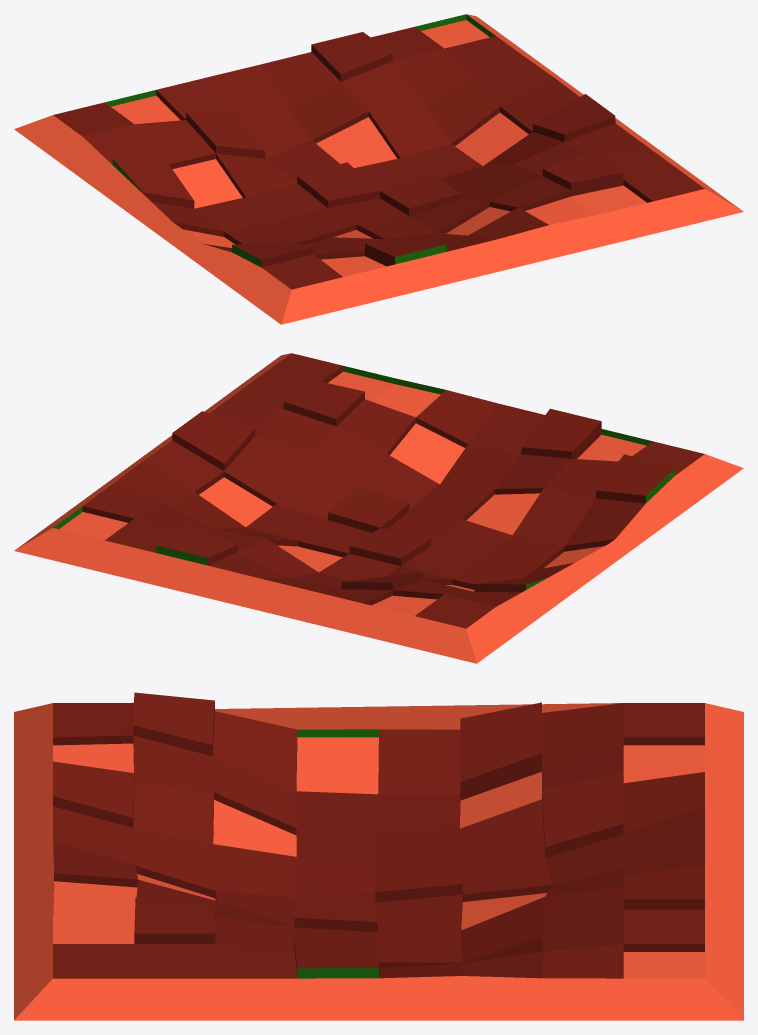
File: des.fbx
3 renders of one model, top to bottom at view 1: azimuth 30°, elevation 25°; view 2: azimuth 150°, elevation 25°; view 3: azimuth 270°, elevation 25°, orthographic. The views are drawn at different scales.
Parts seen in each view (by area): view 1: Cube.013; view 2: Cube.013; view 3: Cube.013.
Part boxes in pixels (box(x1,y1,x2,y2)): Cube.013: box(14, 14, 743, 324); Cube.013: box(14, 353, 743, 663); Cube.013: box(14, 692, 743, 1020).
Bounding box in the file's own units: 101 × 11.63 × 101.
